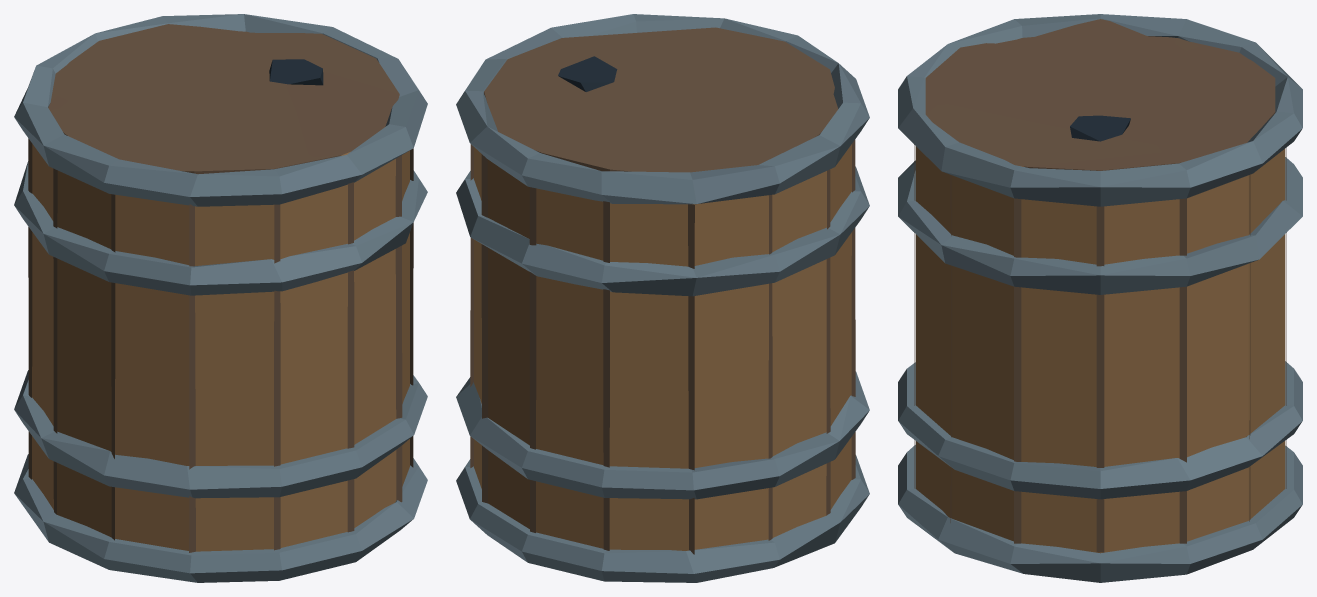
The model's file is props-barrel-wood.lod1.glb.
3 views of the same model, side by side, from view 1: azimuth 30°, elevation 25°; view 2: azimuth 150°, elevation 25°; view 3: azimuth 270°, elevation 25° (orthographic).
Visible parts, largest first — view 1: props-barrel-wood__body; view 2: props-barrel-wood__body; view 3: props-barrel-wood__body.
Boxes of the visible parts, left/top/right/bottom form: props-barrel-wood__body: left=14, top=14, right=427, bottom=582; props-barrel-wood__body: left=456, top=14, right=869, bottom=582; props-barrel-wood__body: left=898, top=14, right=1302, bottom=582.
Bounding box in the file's own units: 0.8068 × 0.8951 × 0.7897.
